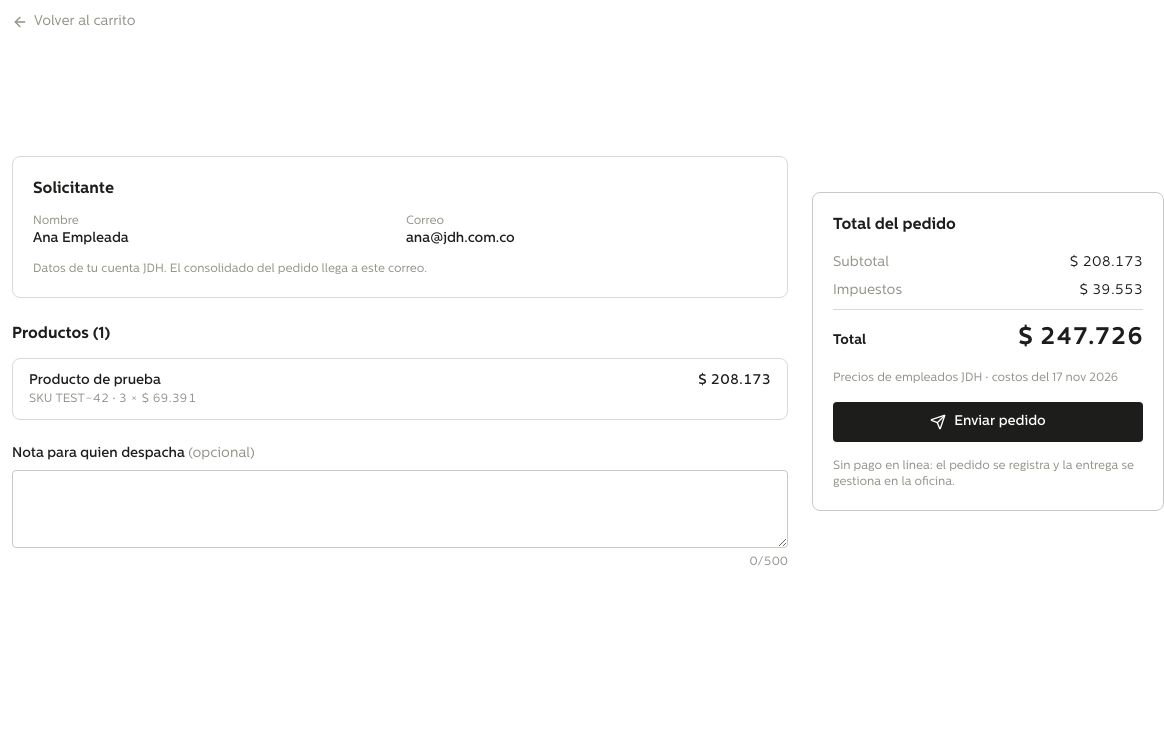
Scenario: finalizar pedido › 409 CARRITO_VACIO: vuelve al carrito, sin pedir confirmar precios
The image size is (1164, 732).
expect the text "Ana Empleada" is shown: met, box 33,231 -> 129,246
Click the button "Enviar pedido".
click(988, 422)  # box 833,402 -> 1143,442
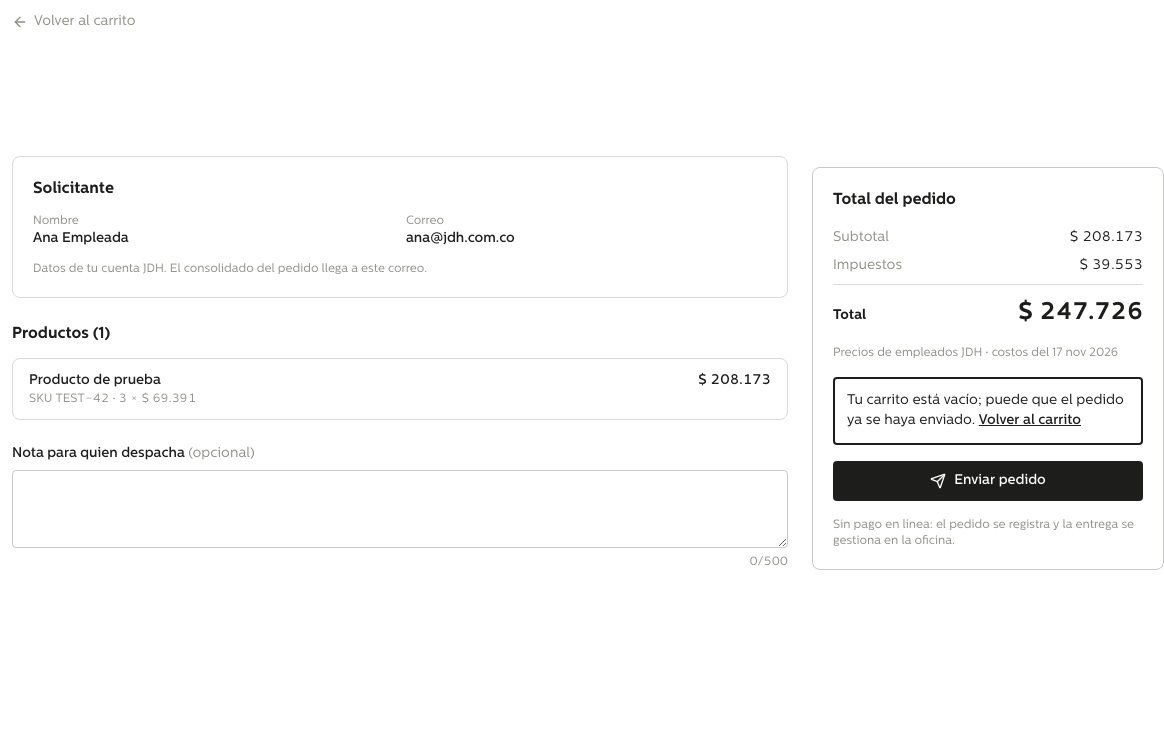
expect the message shows "Tu carrito está vacío": met, box 847,393 -> 1124,428
expect the link "Volver al carrito" below "Precios de empleados JDH · costos del" is shown: met, box 979,413 -> 1081,428
